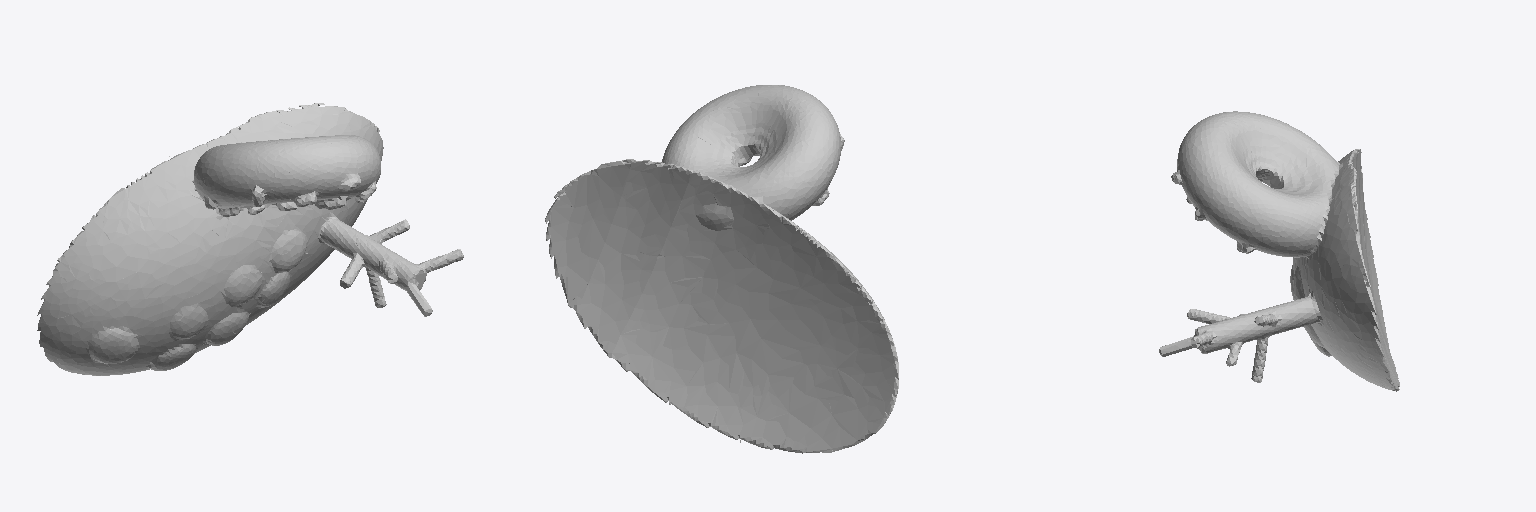
The model's file is lpcv.obj.
3 views of the same model, side by side, from view 1: azimuth 30°, elevation 25°; view 2: azimuth 150°, elevation 25°; view 3: azimuth 270°, elevation 25° (orthographic).
Parts seen in each view (by area): view 1: Layer_1; view 2: Layer_1; view 3: Layer_1.
Boxes of the visible parts, x1=… form: Layer_1: x1=37, y1=103, x2=463, y2=375; Layer_1: x1=545, y1=85, x2=898, y2=453; Layer_1: x1=1159, y1=111, x2=1399, y2=391.
Size of the model in its own units: 0.815 by 0.6107 by 0.4866.